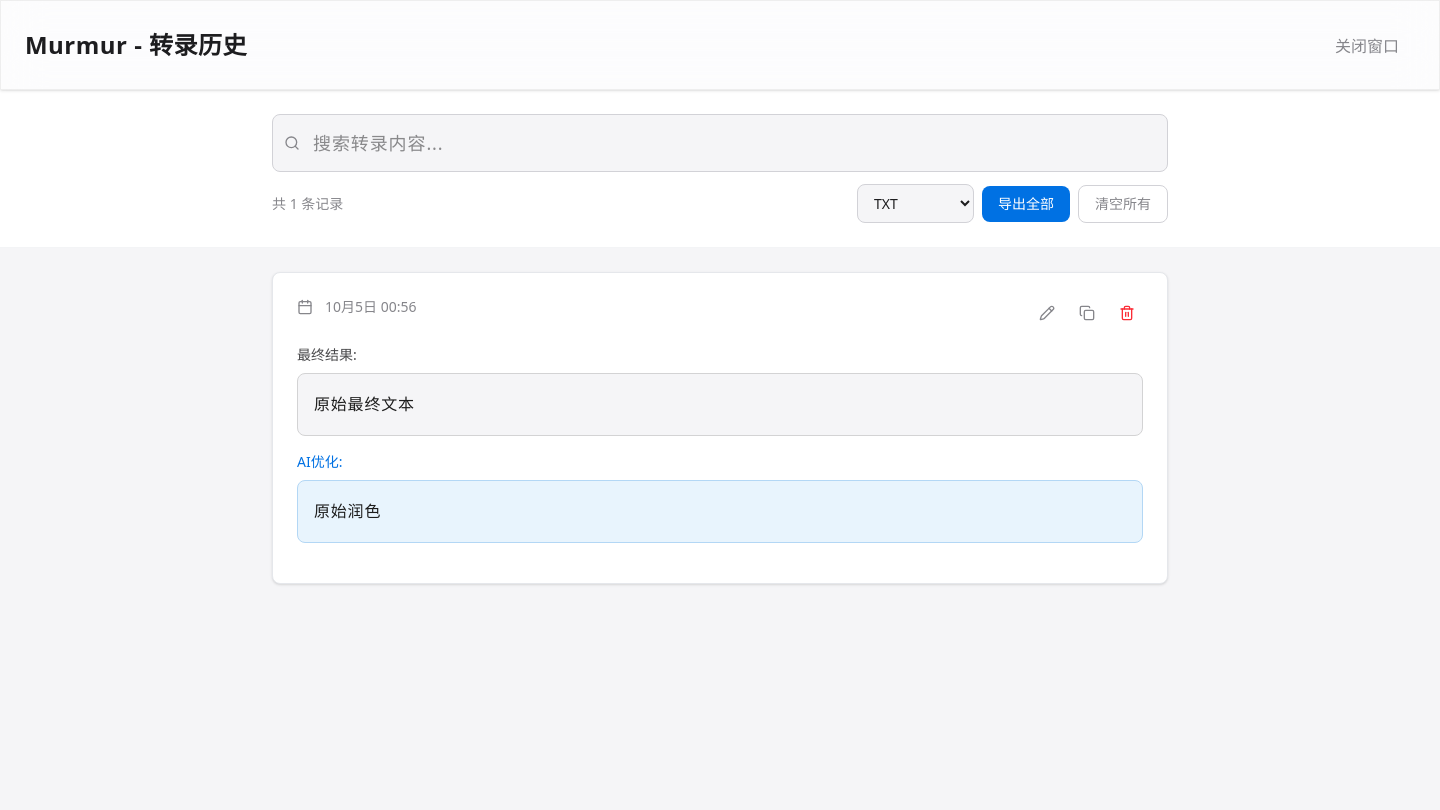
Test: [20260816_Test_HistoryPage] history window entry › saves an inline edit through the UPDATE channel with the flag set
Check: the heading "Murmur - 转录历史" is shown, box [25,28,247,62]
Check: the text "原始最终文本" is shown, box [297,373,1143,436]
Click the button titled "编辑记录".
click(1047, 313)  # box [1031,297,1063,329]
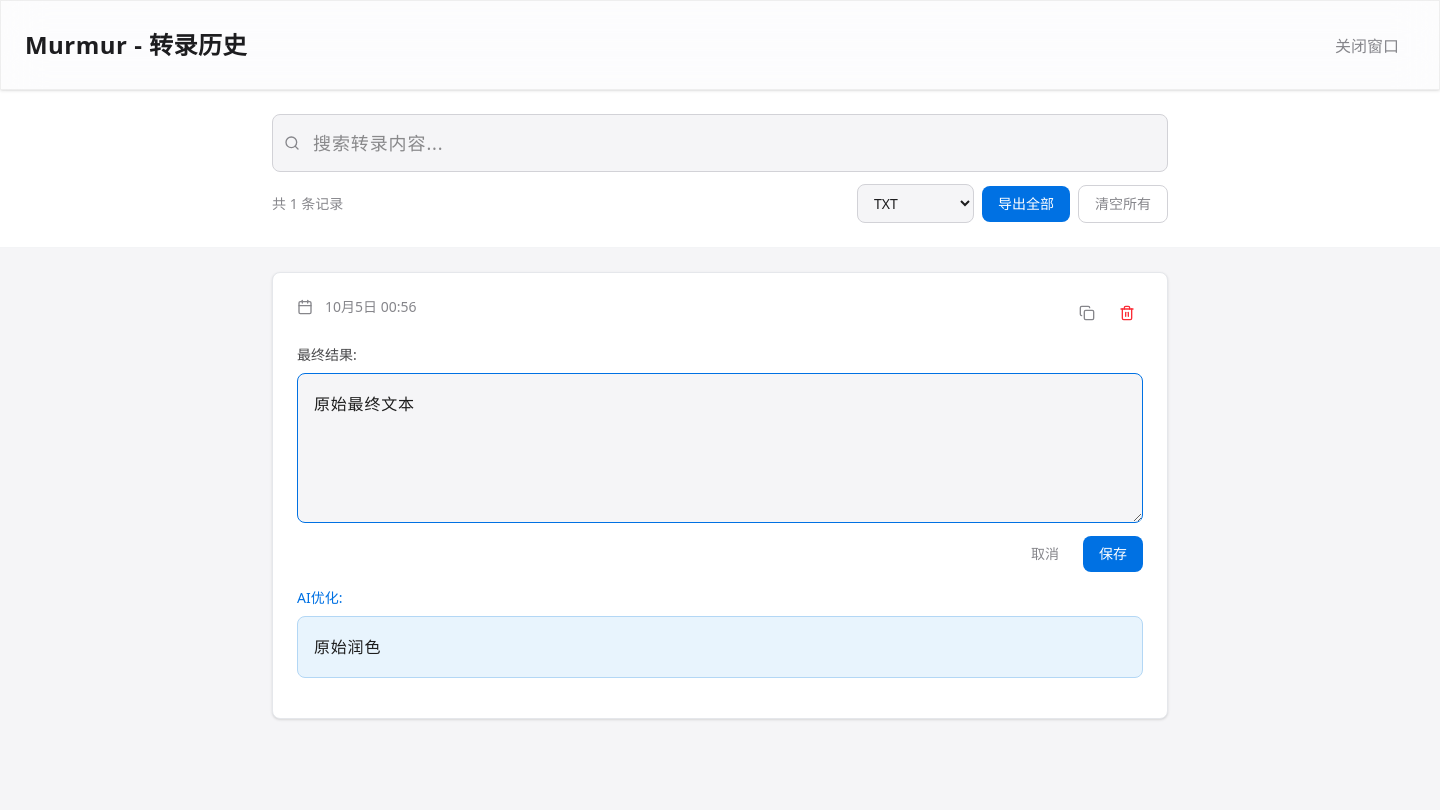
Replace the text in the text box with test id "edit-textarea" with "用户改过的文本" at (720, 448), box [297,373,1143,523]
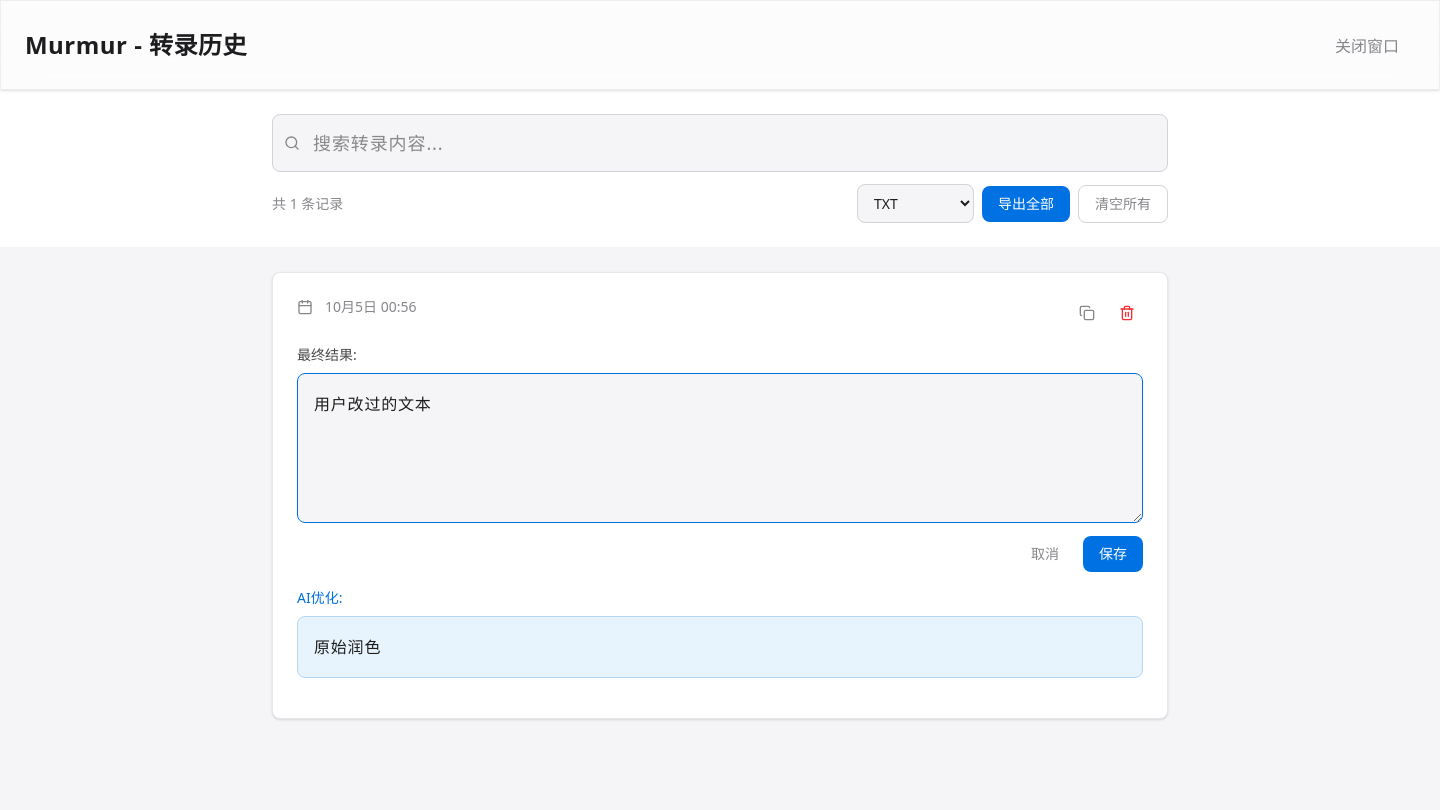
Click the button with test id "edit-save".
click(1113, 554)  # box [1083,536,1143,572]
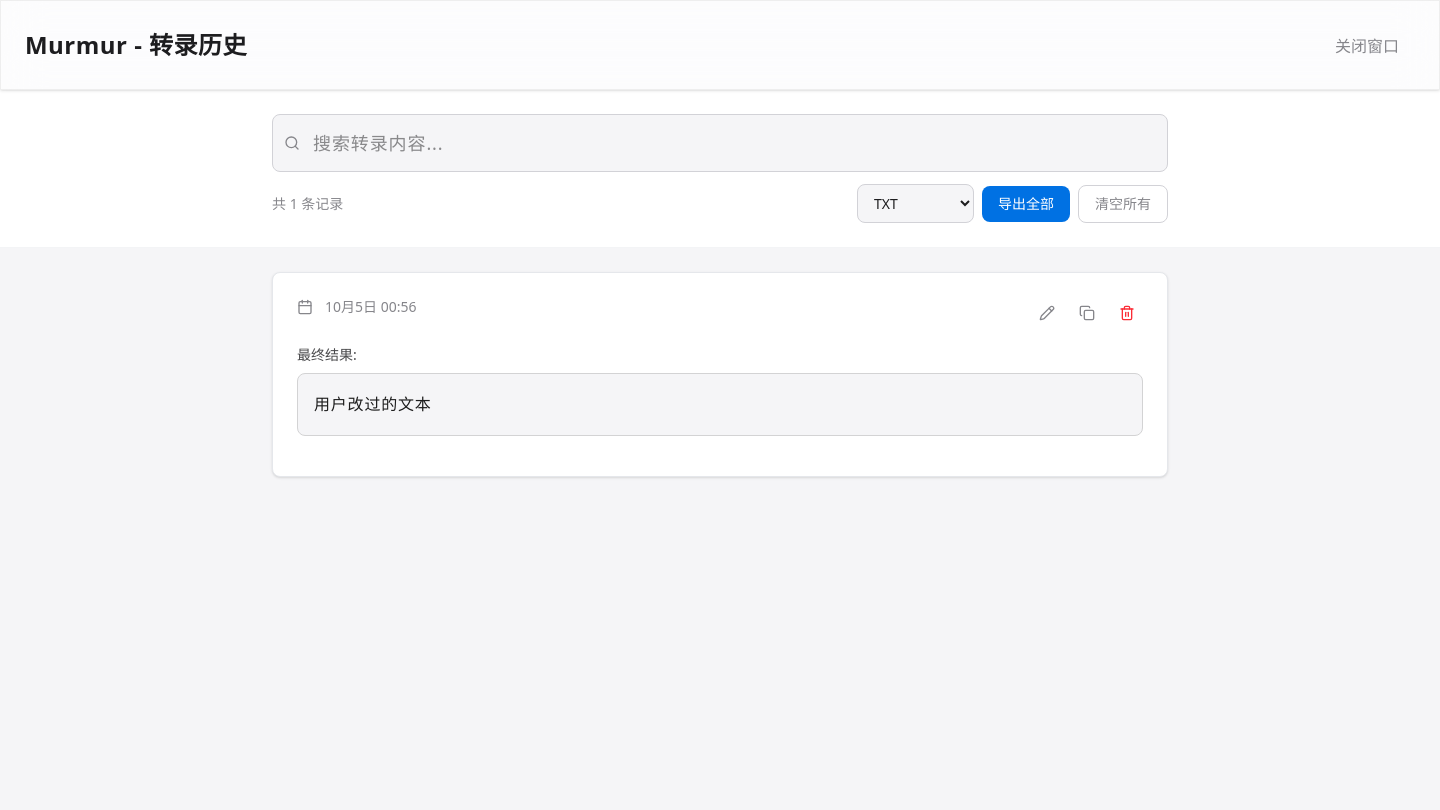
Check: the text "原始最终文本" is not shown
Check: the text "用户改过的文本" is shown once, box [297,373,1143,436]
Check: the heading "AI优化:" is gone
